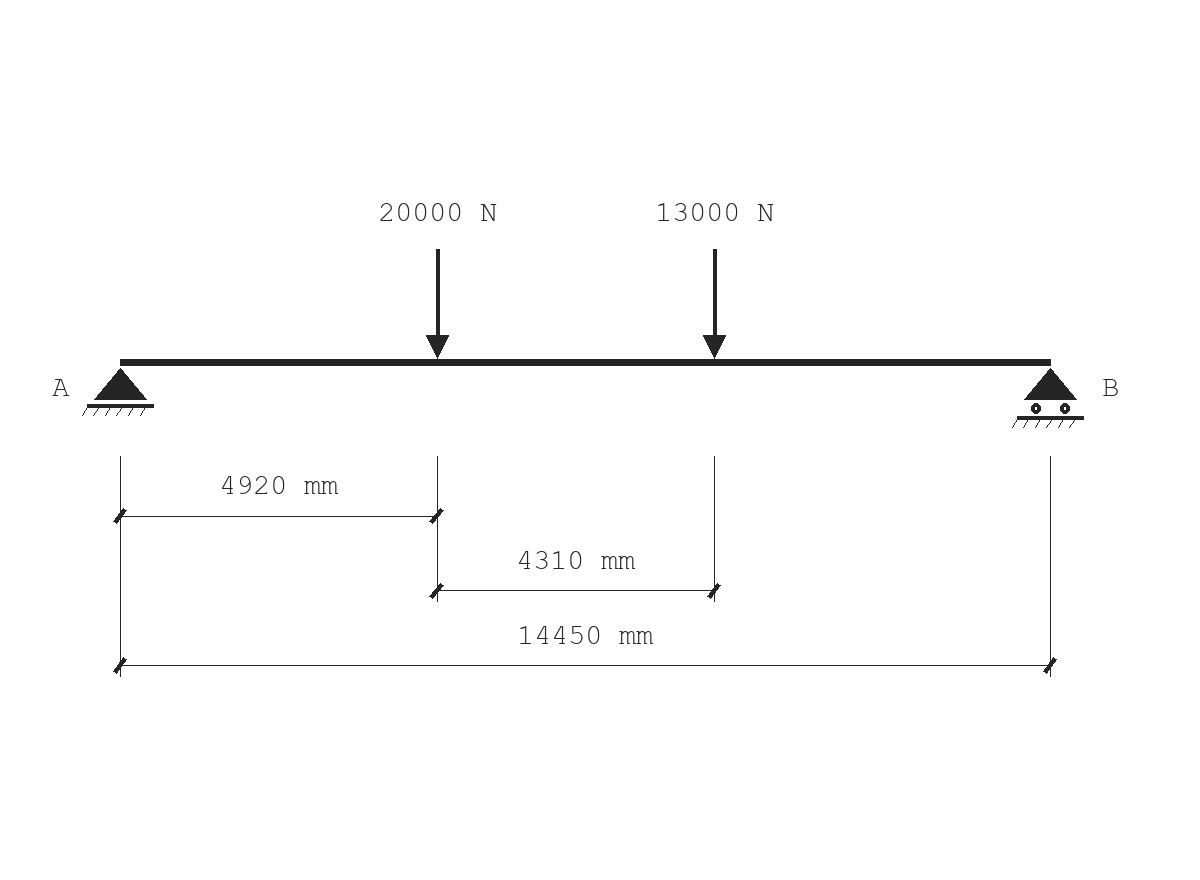pin_support: (82, 368, 154, 416)
point_load: (426, 249, 449, 359), (703, 249, 726, 359)
roller_support: (1012, 368, 1084, 428)
